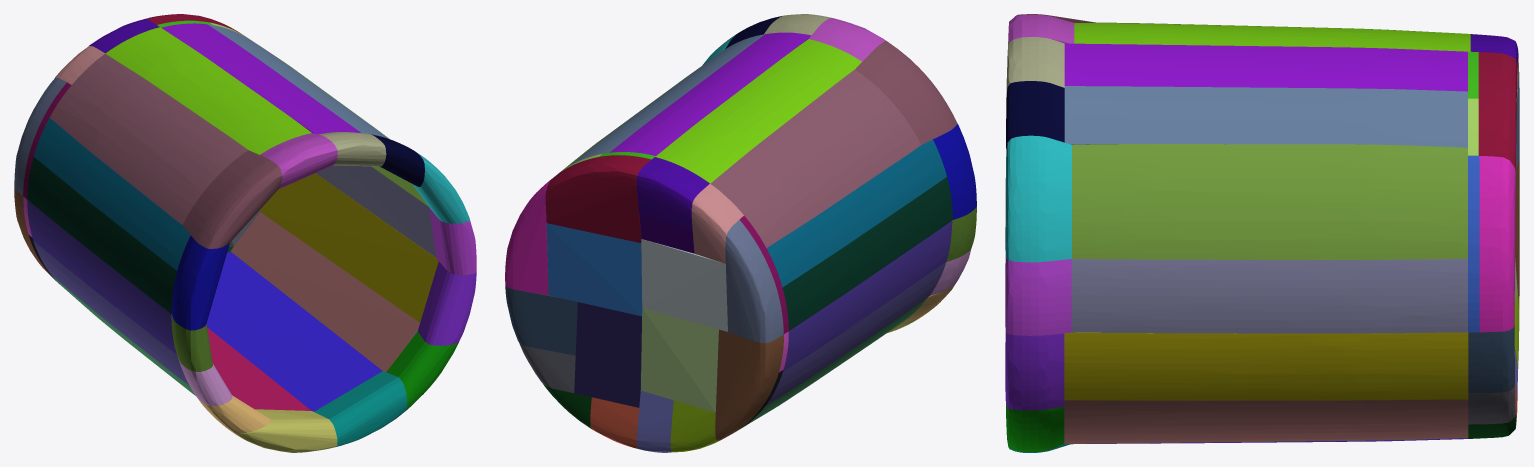
The model's file is coacd_merged.obj.
The picture shows the model from 3 angles, left to right: view 1: azimuth 30°, elevation 25°; view 2: azimuth 150°, elevation 25°; view 3: azimuth 270°, elevation 25°; orthographic projection. The views are drawn at different scales.
Parts seen in each view (by area): view 1: geometry_33, geometry_4, geometry_39, geometry_46, geometry_43, geometry_42, geometry_22, geometry_45, geometry_41, geometry_37, geometry_25, geometry_2 (+23 smaller); view 2: geometry_33, geometry_43, geometry_42, geometry_22, geometry_13, geometry_19, geometry_11, geometry_37, geometry_3, geometry_45, geometry_0, geometry_9 (+23 smaller); view 3: geometry_30, geometry_25, geometry_39, geometry_47, geometry_46, geometry_45, geometry_38, geometry_43, geometry_7, geometry_27, geometry_34, geometry_19 (+12 smaller).
Boxes of the visible parts, x1,y1,x2,y2 form: geometry_33: [49, 54, 247, 224]; geometry_4: [206, 251, 382, 411]; geometry_39: [260, 173, 438, 322]; geometry_46: [230, 212, 419, 371]; geometry_43: [105, 27, 311, 154]; geometry_42: [33, 118, 190, 270]; geometry_22: [27, 157, 176, 313]; geometry_45: [161, 23, 360, 134]; geometry_41: [182, 150, 282, 248]; geometry_37: [27, 200, 176, 354]; geometry_25: [316, 165, 435, 257]; geometry_2: [314, 371, 407, 446]; geometry_33: [710, 69, 921, 247]; geometry_43: [655, 39, 861, 183]; geometry_42: [766, 139, 946, 287]; geometry_22: [782, 177, 952, 330]; geometry_13: [546, 223, 642, 316]; geometry_19: [545, 155, 651, 242]; geometry_11: [641, 308, 718, 412]; geometry_37: [783, 221, 952, 371]; geometry_3: [574, 302, 641, 407]; geometry_45: [610, 32, 811, 155]; geometry_0: [641, 239, 727, 331]; geometry_9: [715, 329, 783, 440]; geometry_30: [1072, 144, 1467, 259]; geometry_25: [1071, 258, 1467, 333]; geometry_39: [1064, 332, 1468, 400]; geometry_47: [1064, 86, 1467, 147]; geometry_46: [1064, 399, 1468, 443]; geometry_45: [1064, 43, 1467, 91]; geometry_38: [1005, 135, 1071, 262]; geometry_43: [1074, 23, 1470, 51]; geometry_7: [1479, 156, 1515, 332]; geometry_27: [1005, 255, 1071, 335]; geometry_34: [1005, 332, 1064, 410]; geometry_19: [1478, 52, 1517, 170].
Size of the model in its own units: 0.1505 by 0.1519 by 0.178.
